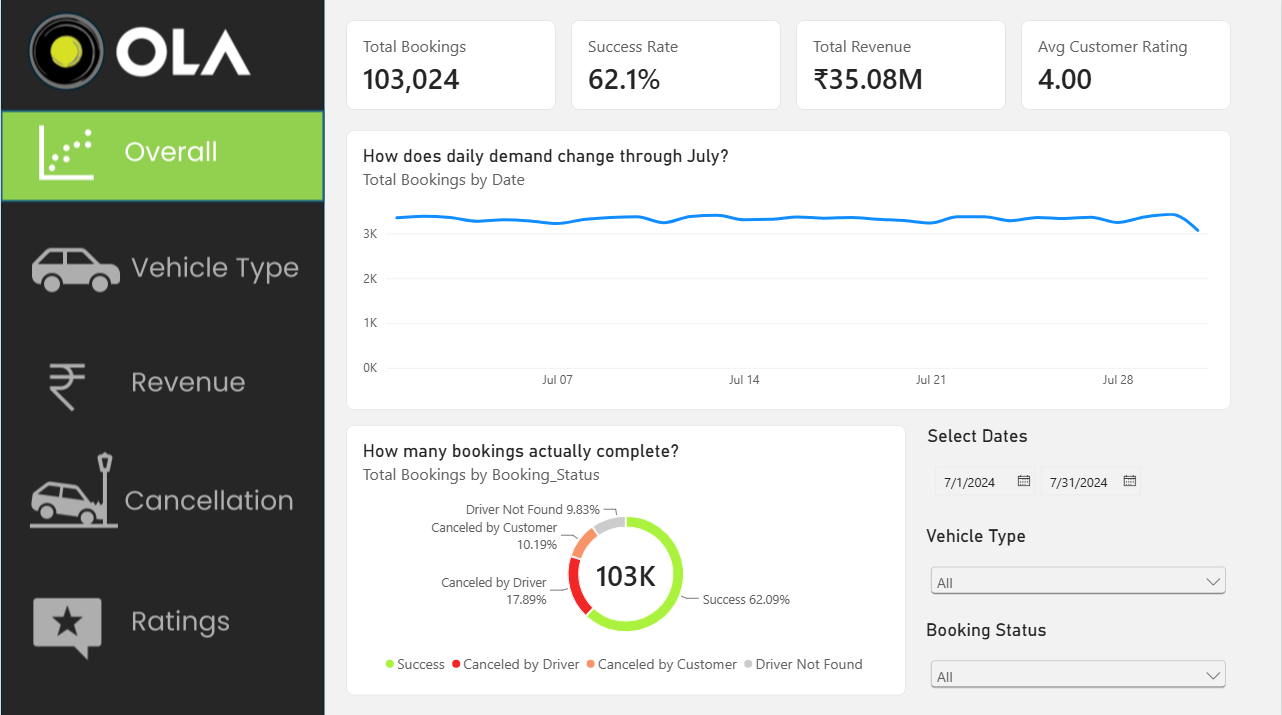

What the dashboard file says about the page in this screenshot:
{"tool":"powerbi","page":{"name":"Overall","canvas":[1920,1080],"ordinal":0},"visuals":[{"type":"actionButton","title":"Overall","box":[321.4,291.4,322.9,87.1],"z":0},{"type":"actionButton","title":"Vehicle Type","box":[321.4,378.6,322.9,122.9],"z":1},{"type":"actionButton","title":"Revenue","box":[321.4,501.4,322.9,118.6],"z":2},{"type":"actionButton","title":"Cancellation","box":[321.4,620,322.9,118.6],"z":3},{"type":"actionButton","title":"Ratings","box":[321.4,738.6,322.9,115.7],"z":4}]}

Visuals, with their boxes in screenshot pixels (x1, y1, x2, y2), scaled from the page's 1920x1080 canvas onto the 1282x715 screenshot:
"Overall" actionButton: bbox=[215, 193, 430, 251]
"Vehicle Type" actionButton: bbox=[215, 251, 430, 332]
"Revenue" actionButton: bbox=[215, 332, 430, 410]
"Cancellation" actionButton: bbox=[215, 410, 430, 489]
"Ratings" actionButton: bbox=[215, 489, 430, 566]
